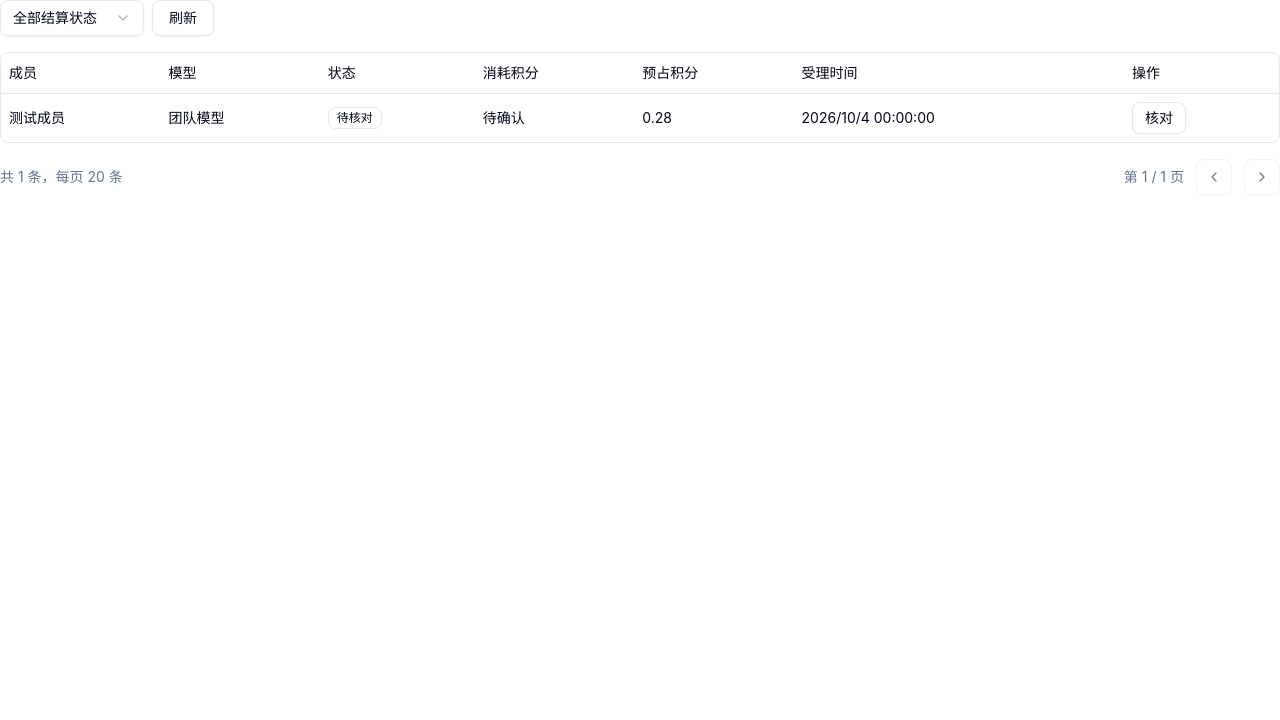
Scenario: locks the draft on 409, refreshes the server version, and clears inaccessible context on 404
Click the button "核对".
click(1159, 118)  # box [1132,102,1186,134]
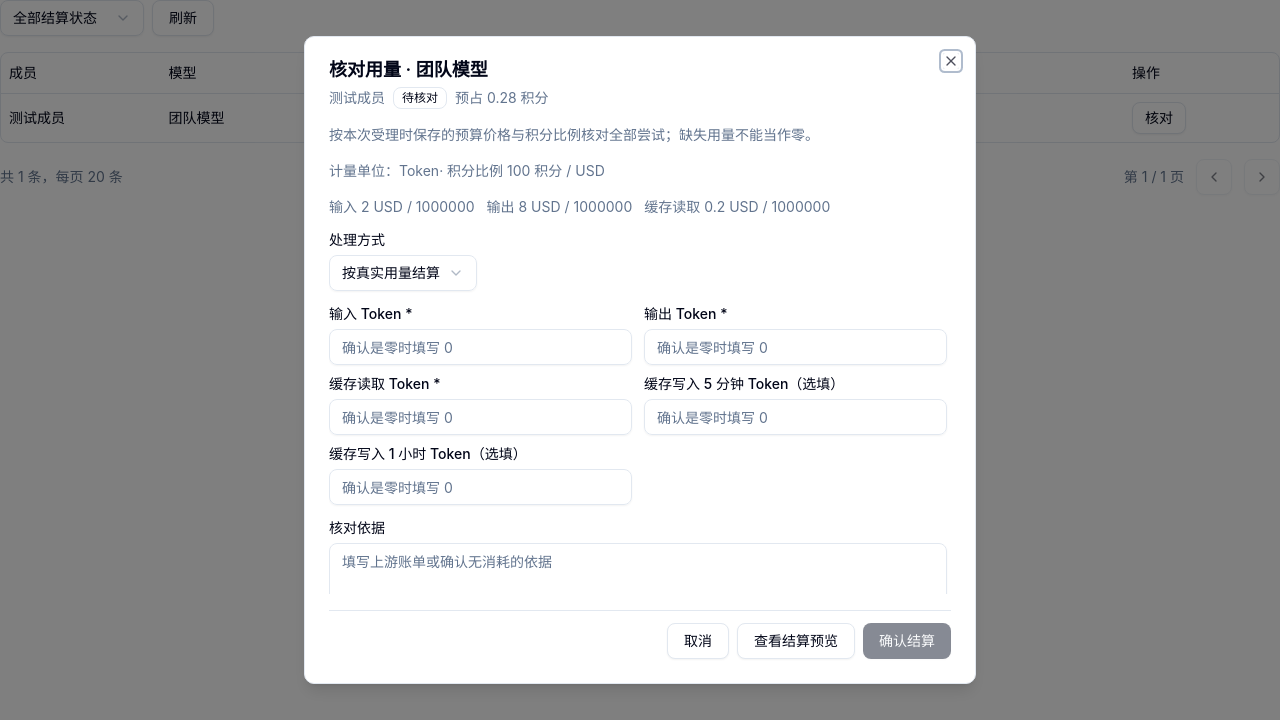
Now the text "计量单位：Token· 积分比例 100 积分 / USD" is shown, box [329,162,605,179]
Type "保留的核对依据" into the text box labelled "核对依据".
click(638, 575); type("保留的核对依据")  # box [329,543,947,607]
Type "80" into the field labelled "输入 Token *".
click(480, 347); type("80")  # box [329,329,632,365]
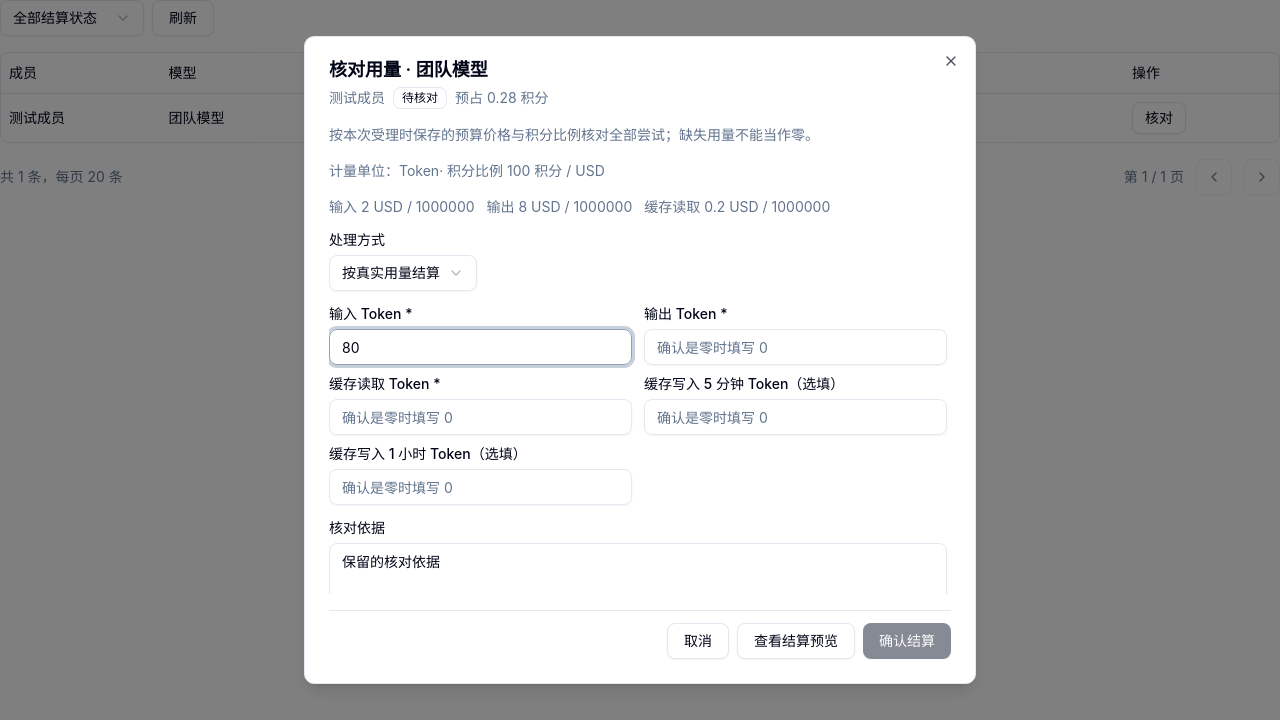
Type "10" into the field labelled "输出 Token *".
click(796, 347); type("10")  # box [644,329,947,365]
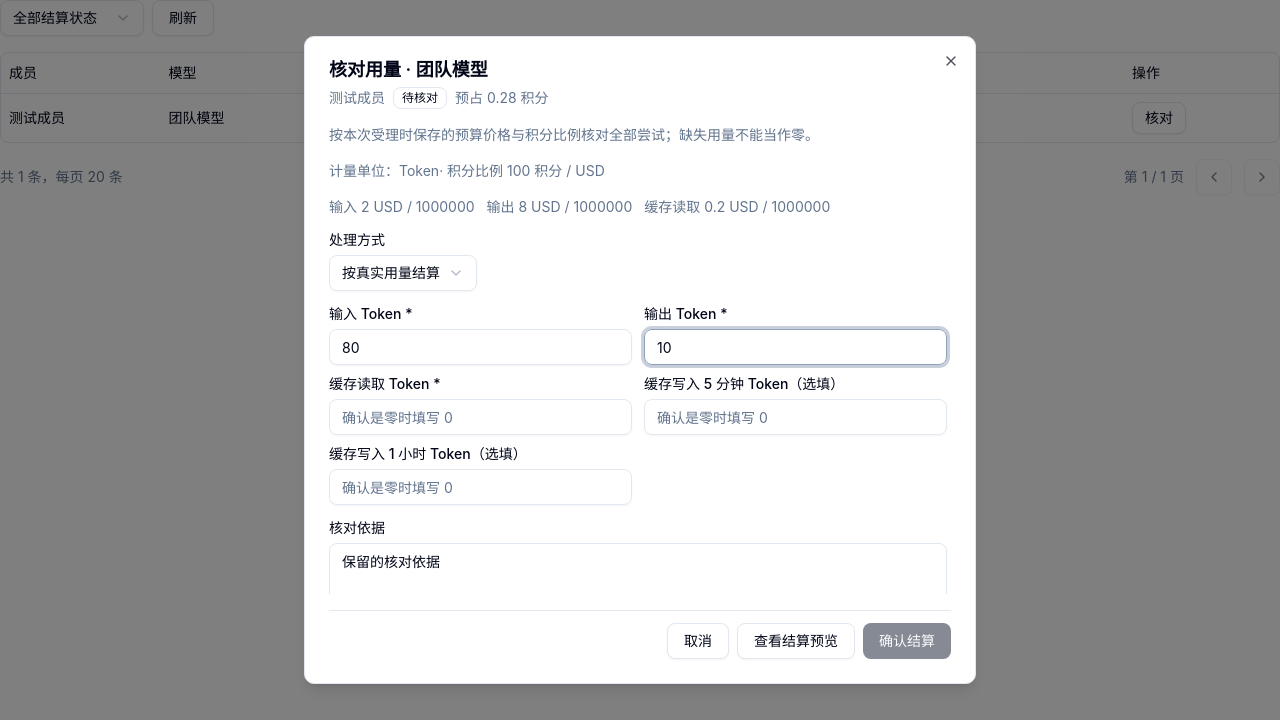
Type "20" into the field labelled "缓存读取 Token *".
click(480, 417); type("20")  # box [329,399,632,435]
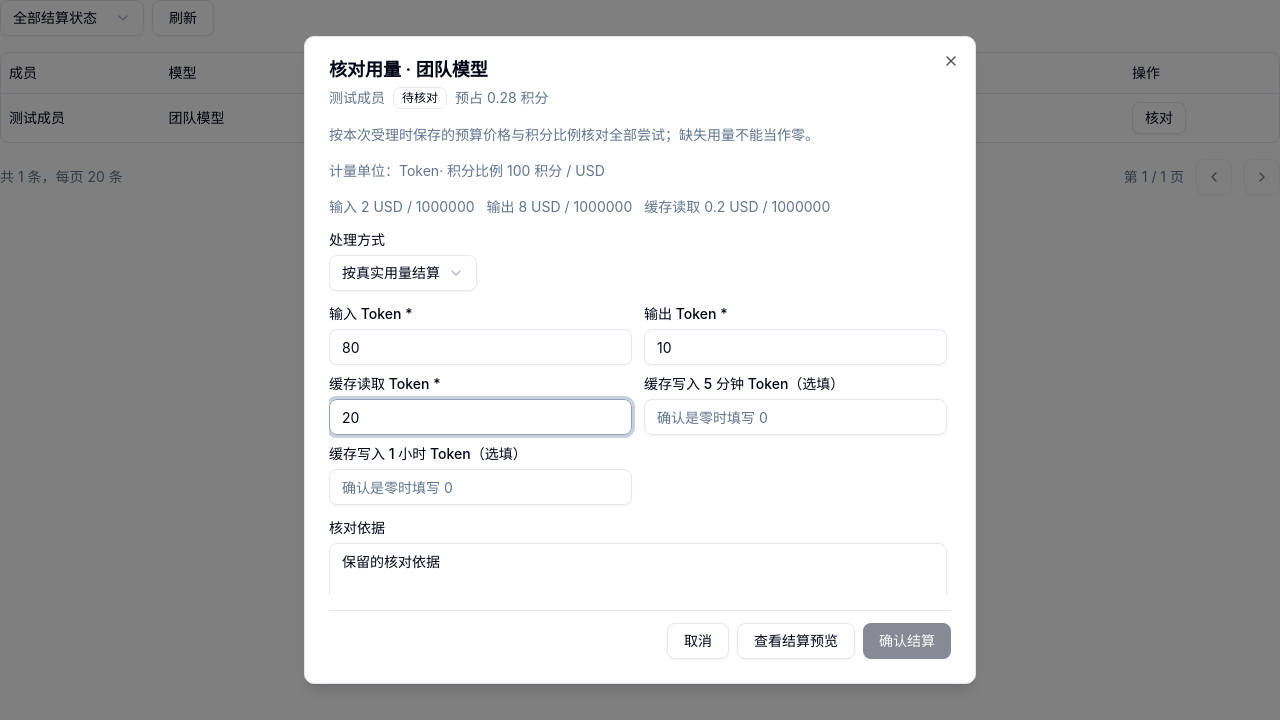
Click the button "查看结算预览".
click(796, 641)  # box [737,623,855,659]
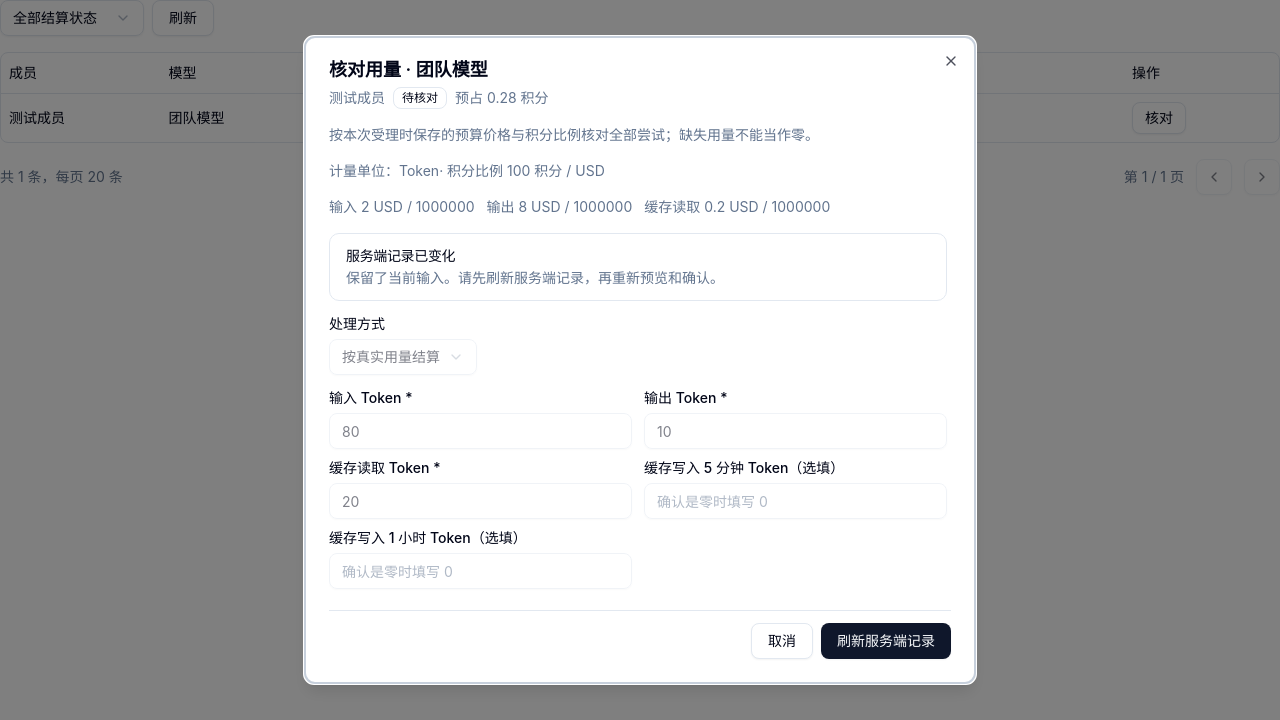
Now the text "服务端记录已变化" is shown, box [346,247,455,264]
Click the button "刷新服务端记录".
click(886, 641)  # box [821,623,951,659]
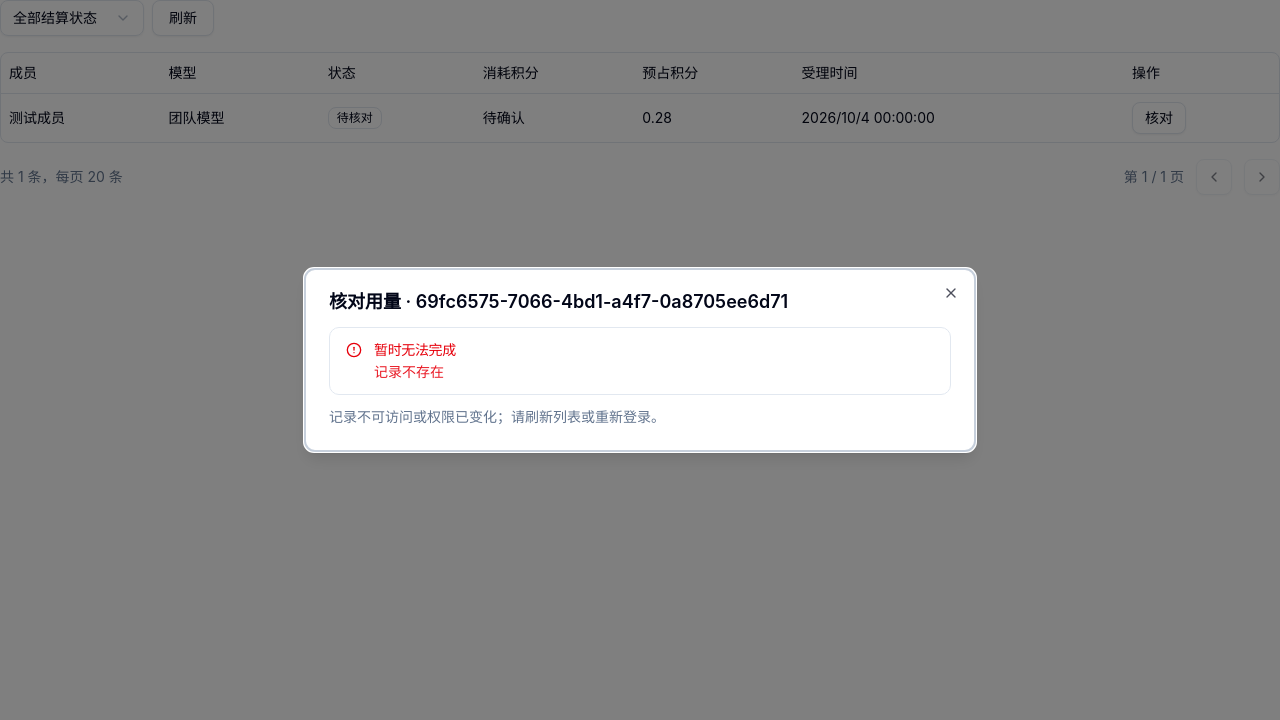
Now the text "记录不存在" is shown, box [374,362,444,382]
